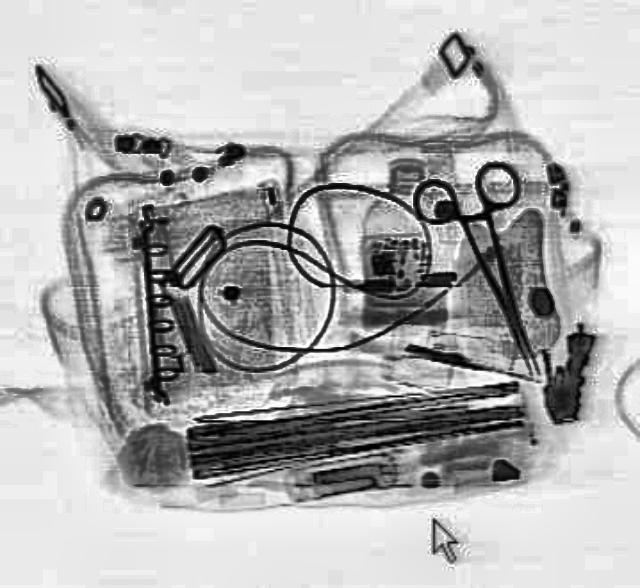Scissors: (402, 156, 592, 390)
